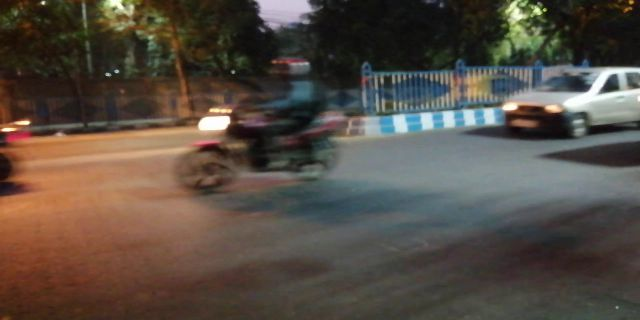Car: (503, 61, 638, 141)
Motorbike: (174, 59, 350, 196)
